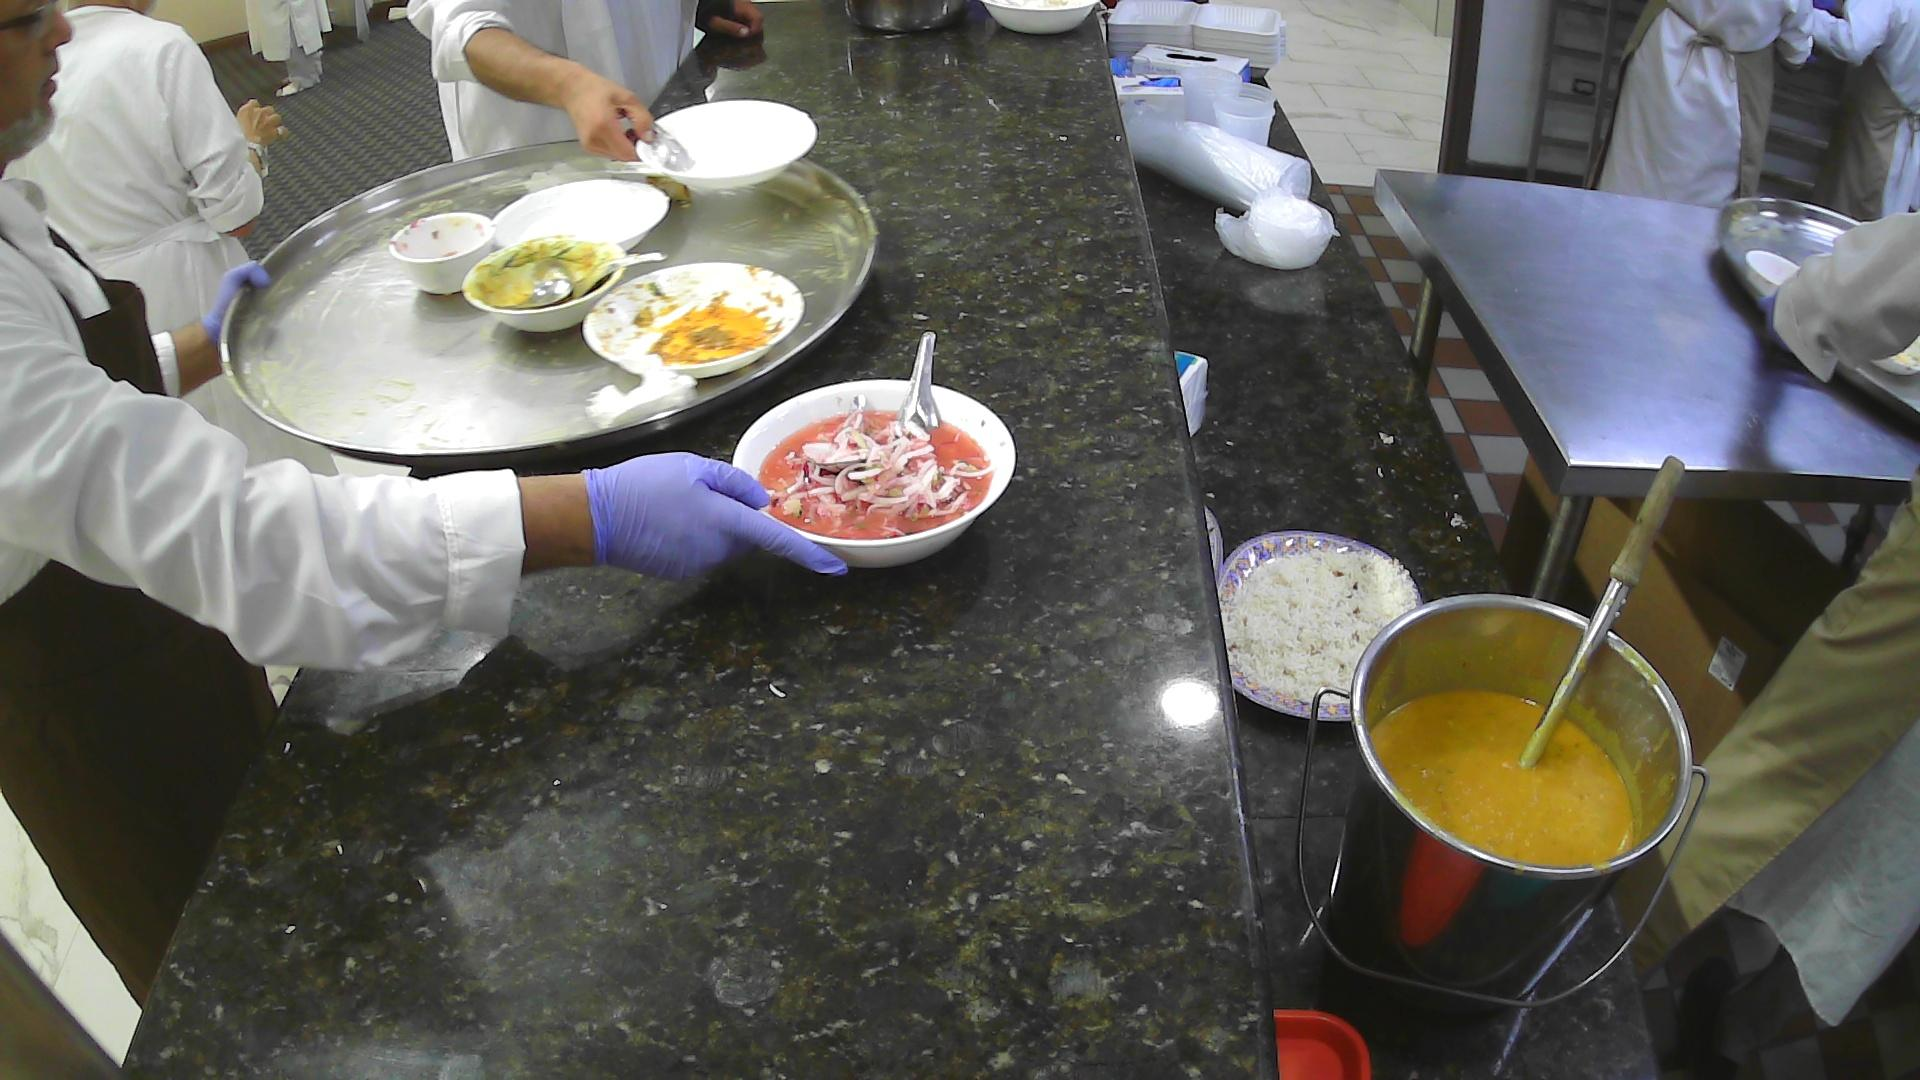thaal: (215, 135, 880, 469), (1714, 194, 1920, 436)
